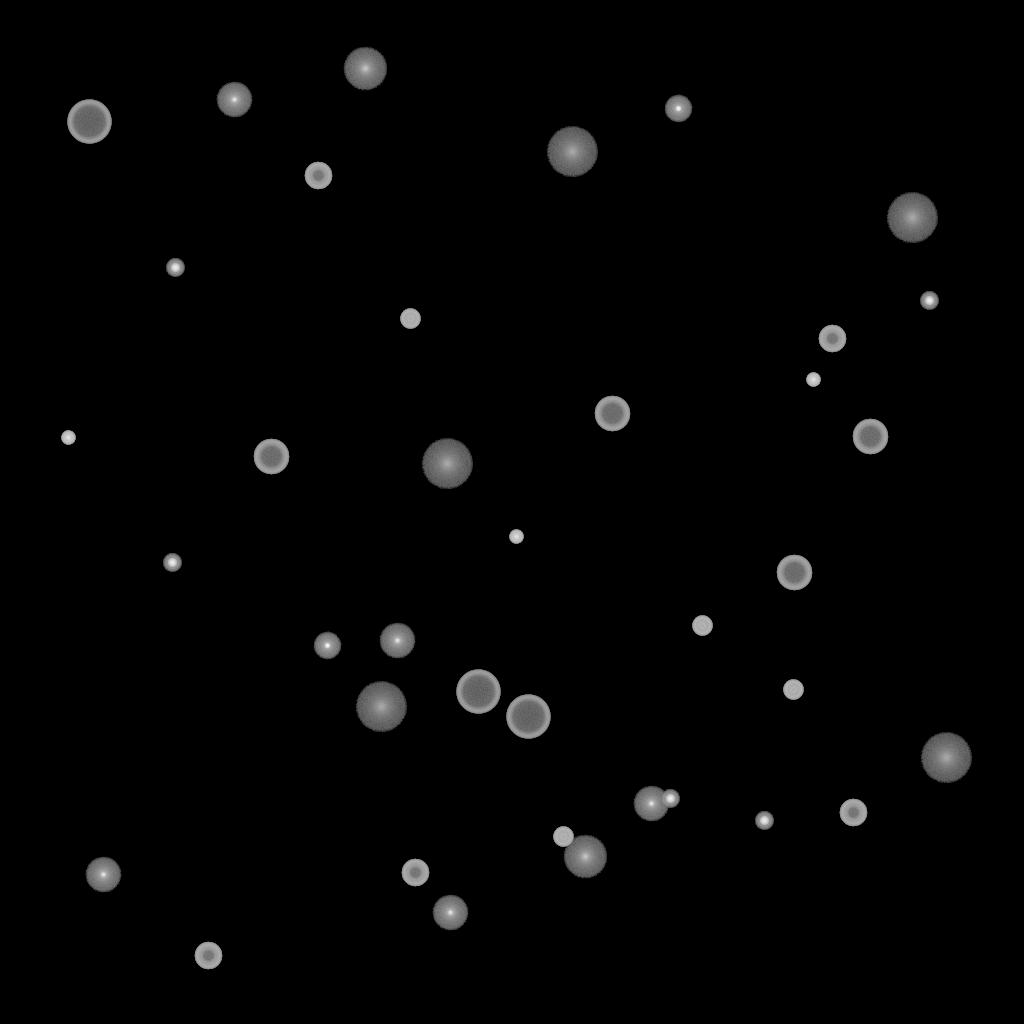depth:-10: (313, 632, 341, 660), (664, 95, 692, 123)
depth:-20: (166, 259, 184, 277), (755, 812, 773, 830), (920, 292, 938, 310), (163, 554, 181, 572), (661, 790, 679, 808)
depth:-30: (61, 431, 75, 445), (509, 530, 523, 544), (806, 373, 820, 387)
depth:-40: (783, 680, 803, 700), (692, 616, 712, 636), (553, 827, 573, 847), (400, 309, 420, 329)
depth:-50: (818, 325, 846, 353), (401, 859, 429, 887), (839, 799, 867, 827), (194, 942, 222, 970), (304, 162, 332, 190)
depth:-60: (852, 419, 888, 455), (594, 396, 630, 432), (253, 439, 289, 475), (776, 555, 812, 591)
depth:-70: (456, 670, 500, 714), (67, 100, 111, 144), (506, 695, 550, 739)
depth:0: (432, 895, 468, 931), (85, 857, 121, 893), (633, 786, 669, 822), (216, 82, 252, 118), (379, 623, 415, 659)
depth:10: (343, 47, 387, 91), (563, 835, 607, 879)
depth:20: (421, 439, 473, 489), (355, 682, 407, 732), (546, 127, 598, 177), (886, 193, 938, 243), (920, 733, 972, 783)
